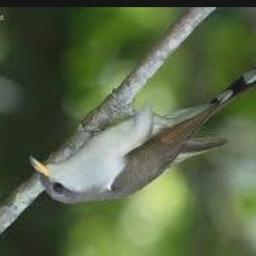Cuckoo: (29, 59, 256, 204)
